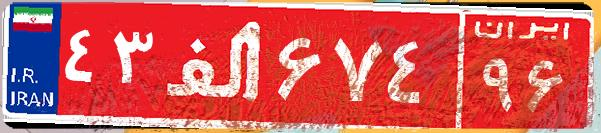3: (110, 28, 158, 105)
4: (385, 28, 445, 110), (57, 26, 110, 107)
6: (273, 28, 330, 110), (525, 38, 570, 115)
7: (330, 28, 385, 110)
9: (475, 38, 525, 113)
الف: (158, 15, 273, 115)
